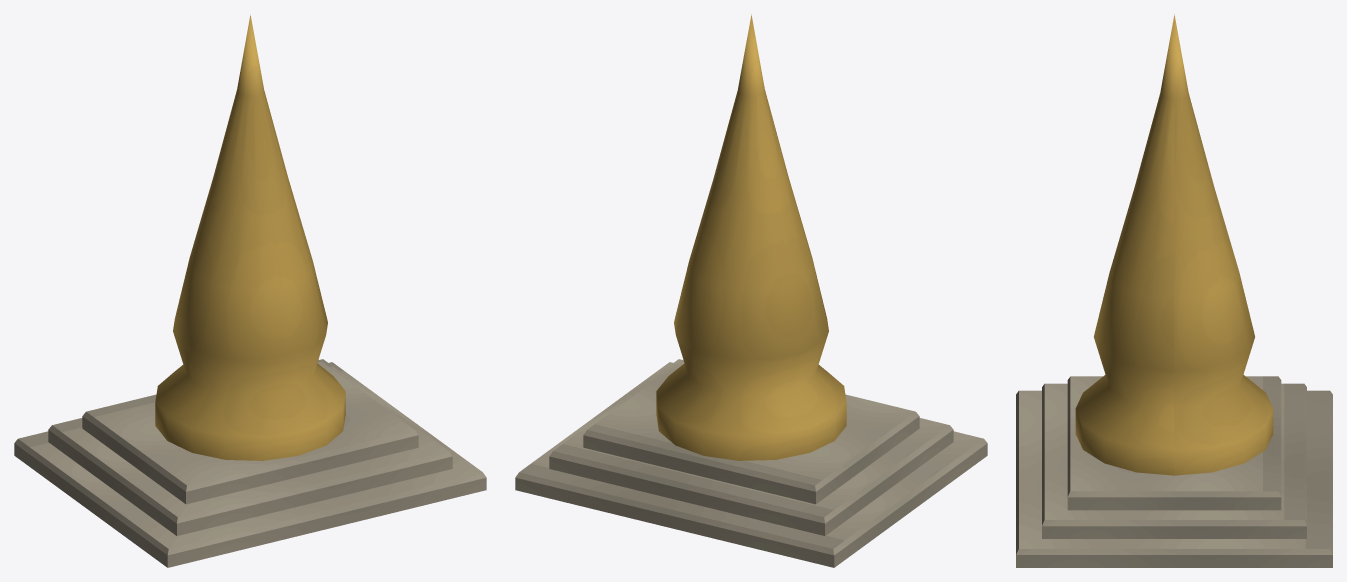
3 renders of one model, left to right at view 1: azimuth 30°, elevation 25°; view 2: azimuth 150°, elevation 25°; view 3: azimuth 270°, elevation 25°, orthographic. The views are drawn at different scales.
Parts seen in each view (by area): view 1: vientiane; view 2: vientiane; view 3: vientiane.
Part boxes in pixels (box(x1,y1,x2,y2)): vientiane: box(14, 14, 486, 567); vientiane: box(515, 14, 987, 567); vientiane: box(1016, 14, 1332, 567).
Size of the model in its own units: 4.8 by 6.6 by 4.
Materials: 1 (1 with a texture image).
